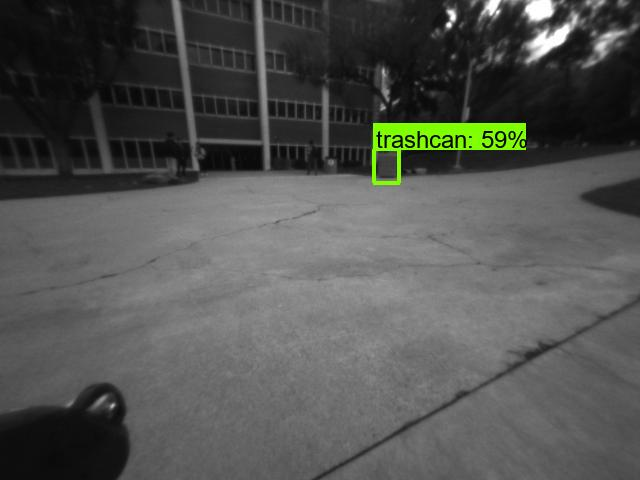trashcan: (376, 151, 398, 184), (323, 156, 340, 173)
